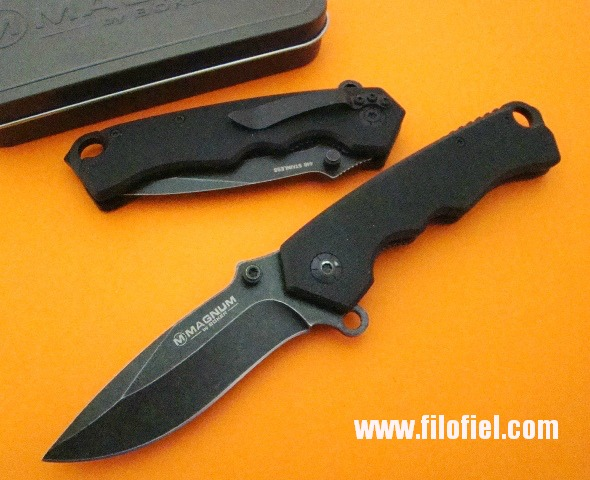knife: (33, 244, 322, 467)
